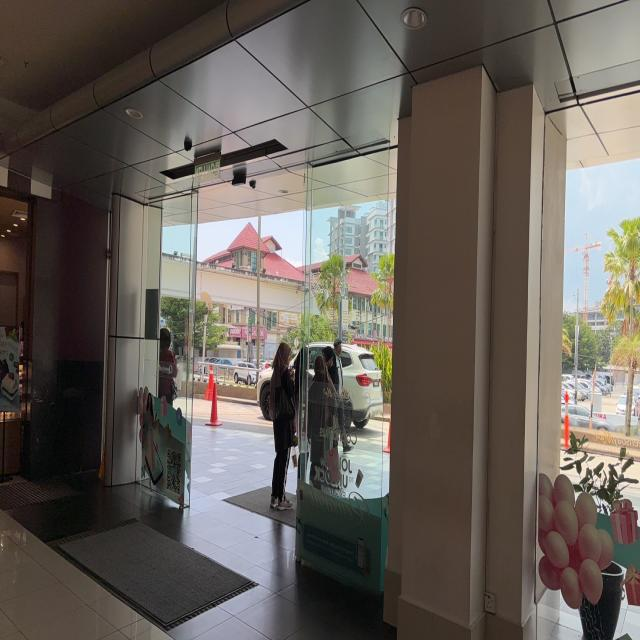door: (183, 160, 308, 558)
